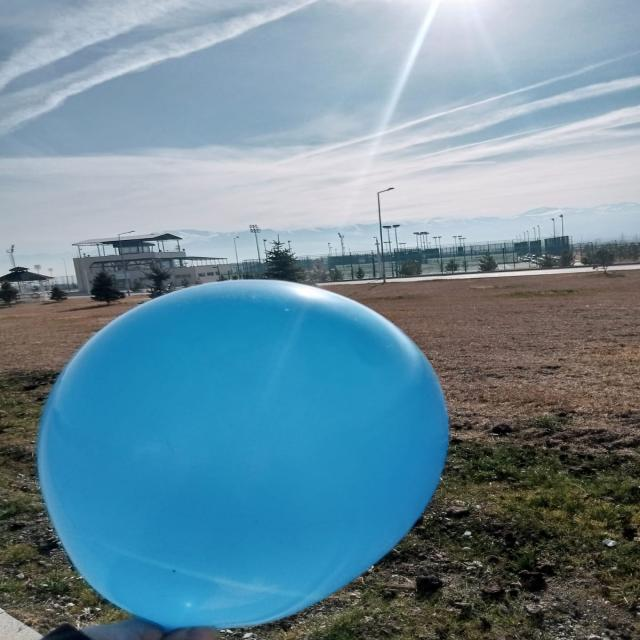balloon: (37, 279, 448, 631), (195, 353, 198, 356)
